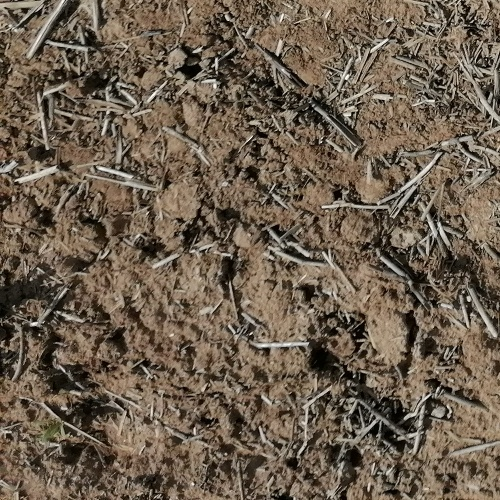beet: (36, 418, 68, 444)
